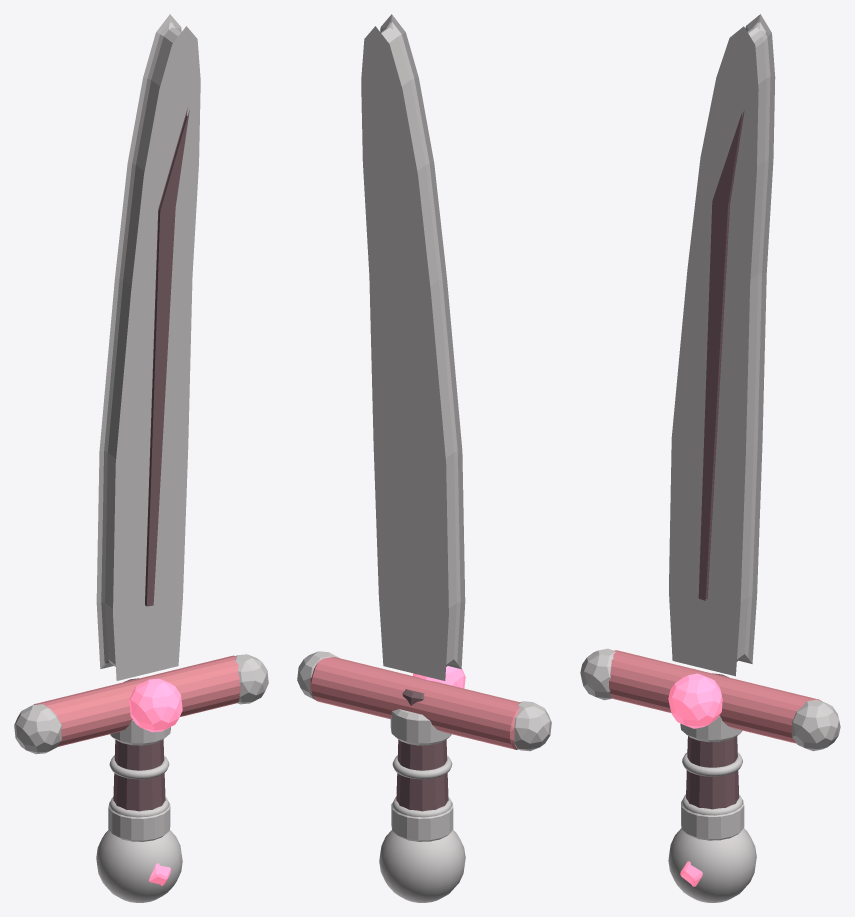
The model's file is assassin-sword-03-crimson-veil.glb.
3 views of the same model, side by side, from view 1: azimuth 30°, elevation 25°; view 2: azimuth 150°, elevation 25°; view 3: azimuth 330°, elevation 25° (orthographic). The views are drawn at different scales.
Visible parts, largest first — view 1: assassin-sword-03-crimson-veil_ForgedBlade, assassin-sword-03-crimson-veil_Crossguard, assassin-sword-03-crimson-veil_ColoredFuller, assassin-sword-03-crimson-veil_Pommel, assassin-sword-03-crimson-veil_LeatherGrip, assassin-sword-03-crimson-veil_GuardGem, assassin-sword-03-crimson-veil_GuardEnd_-1, assassin-sword-03-crimson-veil_LowerFerrule, assassin-sword-03-crimson-veil_GuardEnd_1, assassin-sword-03-crimson-veil_UpperFerrule, assassin-sword-03-crimson-veil_GripBinding_2; view 2: assassin-sword-03-crimson-veil_ForgedBlade, assassin-sword-03-crimson-veil_Crossguard, assassin-sword-03-crimson-veil_Pommel, assassin-sword-03-crimson-veil_LeatherGrip, assassin-sword-03-crimson-veil_LowerFerrule, assassin-sword-03-crimson-veil_GuardEnd_-1, assassin-sword-03-crimson-veil_UpperFerrule, assassin-sword-03-crimson-veil_GuardEnd_1, assassin-sword-03-crimson-veil_GripBinding_2; view 3: assassin-sword-03-crimson-veil_ForgedBlade, assassin-sword-03-crimson-veil_Crossguard, assassin-sword-03-crimson-veil_ColoredFuller, assassin-sword-03-crimson-veil_Pommel, assassin-sword-03-crimson-veil_LeatherGrip, assassin-sword-03-crimson-veil_GuardGem, assassin-sword-03-crimson-veil_GuardEnd_1, assassin-sword-03-crimson-veil_LowerFerrule, assassin-sword-03-crimson-veil_GuardEnd_-1, assassin-sword-03-crimson-veil_UpperFerrule, assassin-sword-03-crimson-veil_GripBinding_2.
Boxes of the visible parts, left/top/right/bottom form: assassin-sword-03-crimson-veil_ForgedBlade: left=96, top=14, right=200, bottom=680; assassin-sword-03-crimson-veil_Crossguard: left=33, top=655, right=240, bottom=746; assassin-sword-03-crimson-veil_ColoredFuller: left=145, top=108, right=189, bottom=606; assassin-sword-03-crimson-veil_Pommel: left=96, top=829, right=182, bottom=902; assassin-sword-03-crimson-veil_LeatherGrip: left=113, top=678, right=165, bottom=811; assassin-sword-03-crimson-veil_GuardGem: left=129, top=678, right=182, bottom=732; assassin-sword-03-crimson-veil_GuardEnd_-1: left=14, top=704, right=61, bottom=754; assassin-sword-03-crimson-veil_LowerFerrule: left=108, top=802, right=170, bottom=841; assassin-sword-03-crimson-veil_GuardEnd_1: left=235, top=654, right=268, bottom=704; assassin-sword-03-crimson-veil_UpperFerrule: left=110, top=720, right=170, bottom=745; assassin-sword-03-crimson-veil_GripBinding_2: left=109, top=755, right=169, bottom=779; assassin-sword-03-crimson-veil_ForgedBlade: left=361, top=14, right=465, bottom=680; assassin-sword-03-crimson-veil_Crossguard: left=310, top=657, right=519, bottom=749; assassin-sword-03-crimson-veil_Pommel: left=379, top=830, right=465, bottom=902; assassin-sword-03-crimson-veil_LeatherGrip: left=396, top=689, right=448, bottom=811; assassin-sword-03-crimson-veil_LowerFerrule: left=391, top=801, right=453, bottom=841; assassin-sword-03-crimson-veil_GuardEnd_-1: left=513, top=701, right=551, bottom=751; assassin-sword-03-crimson-veil_UpperFerrule: left=390, top=709, right=451, bottom=745; assassin-sword-03-crimson-veil_GuardEnd_1: left=297, top=651, right=339, bottom=699; assassin-sword-03-crimson-veil_GripBinding_2: left=392, top=755, right=452, bottom=779; assassin-sword-03-crimson-veil_ForgedBlade: left=669, top=14, right=775, bottom=676; assassin-sword-03-crimson-veil_Crossguard: left=609, top=650, right=822, bottom=743; assassin-sword-03-crimson-veil_ColoredFuller: left=698, top=110, right=744, bottom=600; assassin-sword-03-crimson-veil_Pommel: left=668, top=828, right=756, bottom=902; assassin-sword-03-crimson-veil_LeatherGrip: left=686, top=673, right=739, bottom=809; assassin-sword-03-crimson-veil_GuardGem: left=668, top=673, right=722, bottom=728; assassin-sword-03-crimson-veil_GuardEnd_1: left=791, top=699, right=840, bottom=751; assassin-sword-03-crimson-veil_LowerFerrule: left=681, top=799, right=744, bottom=840; assassin-sword-03-crimson-veil_GuardEnd_-1: left=580, top=648, right=615, bottom=700; assassin-sword-03-crimson-veil_UpperFerrule: left=680, top=716, right=742, bottom=742; assassin-sword-03-crimson-veil_GripBinding_2: left=682, top=752, right=742, bottom=776.
Bounding box in the file's own units: 0.422 × 1.41 × 0.15.
